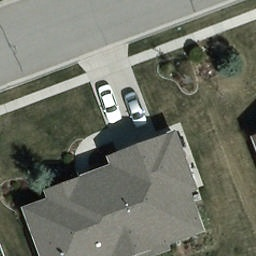car: (95, 84, 123, 124), (123, 91, 148, 128)
